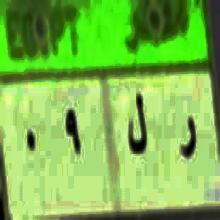0: (25, 120, 37, 158)
9: (64, 104, 82, 161)
laam: (126, 90, 148, 159)
raa: (178, 112, 198, 169)
